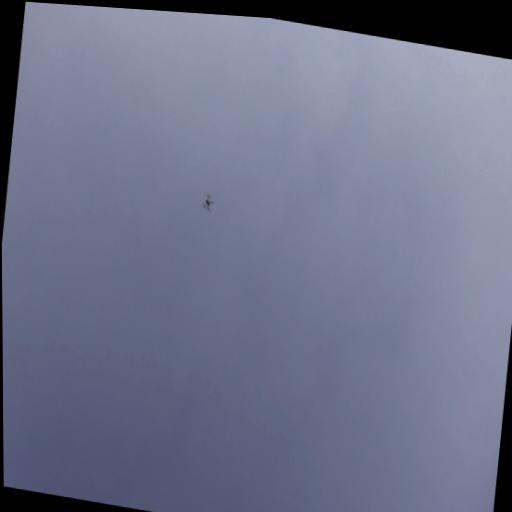drones: (201, 192, 215, 214)
